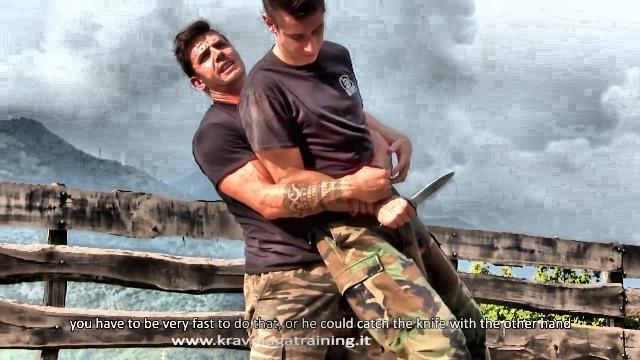knife: (374, 166, 458, 232)
